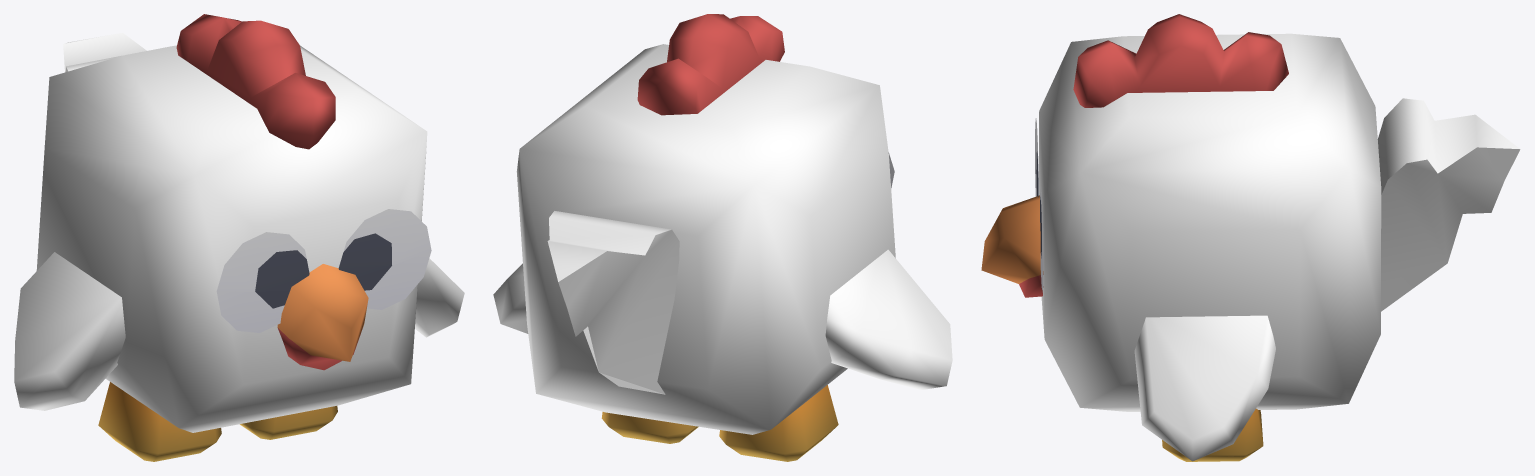
Rendered from Chicken01.glb.
3 views of the same model, side by side, from view 1: azimuth 30°, elevation 25°; view 2: azimuth 150°, elevation 25°; view 3: azimuth 270°, elevation 25° (orthographic). The views are drawn at different scales.
Parts seen in each view (by area): view 1: Chicken; view 2: Chicken; view 3: Chicken.
Boxes of the visible parts, box(x1,y1,x2,y2) form: Chicken: box(14, 14, 464, 461); Chicken: box(493, 14, 952, 461); Chicken: box(981, 14, 1520, 461).
Bounding box in the file's own units: 1.92 × 1.7 × 2.
1 material, 1 textured.
